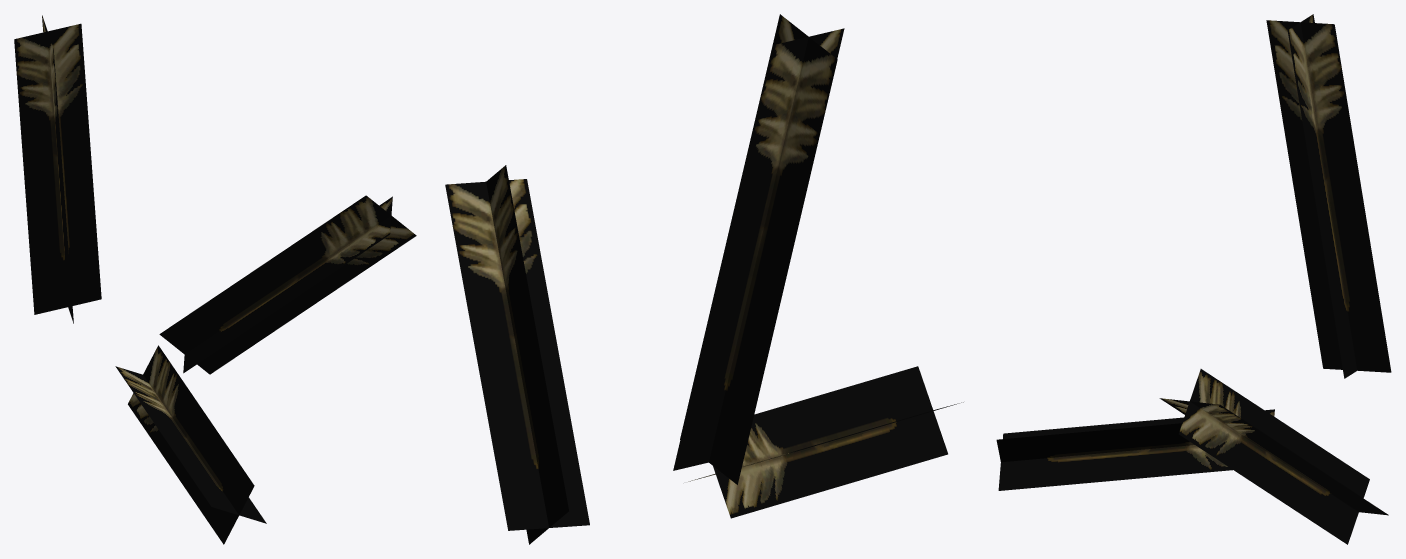
File: dwarvern_arrows_03.fbx
The picture shows the model from 3 angles, left to right: view 1: azimuth 30°, elevation 25°; view 2: azimuth 150°, elevation 25°; view 3: azimuth 270°, elevation 25°; orthographic projection. The views are drawn at different scales.
Parts seen in each view (by area): view 1: dwarvern_arrows02; view 2: dwarvern_arrows02; view 3: dwarvern_arrows02.
Part boxes in pixels (<box>): dwarvern_arrows02: <box>14,15,416,544</box>; dwarvern_arrows02: <box>445,14,963,544</box>; dwarvern_arrows02: <box>996,14,1391,544</box>.
Size of the model in its own units: 0.7164 by 0.8602 by 0.6846.
